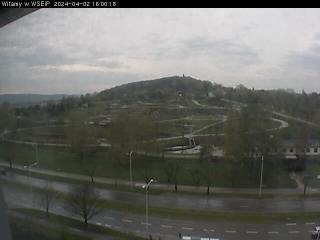car: (311, 224, 320, 240), (0, 166, 7, 176)
